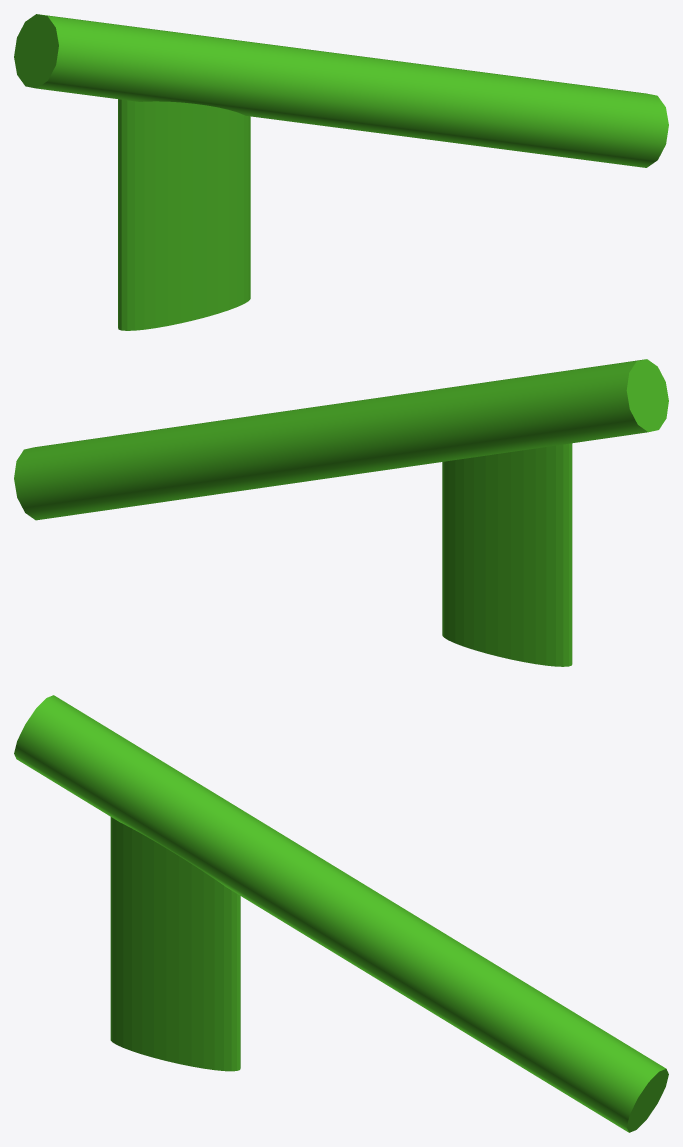
The model's file is A_Rail.fbx.
3 renders of one model, top to bottom at view 1: azimuth 30°, elevation 25°; view 2: azimuth 150°, elevation 25°; view 3: azimuth 330°, elevation 25°, orthographic.
Visible parts, largest first — view 1: A Rail; view 2: A Rail; view 3: A Rail.
Part boxes in pixels (<box>): A Rail: <box>14,14,668,330</box>; A Rail: <box>14,359,668,666</box>; A Rail: <box>14,695,668,1132</box>.
Size of the model in its own units: 3895 by 1910 by 474.
